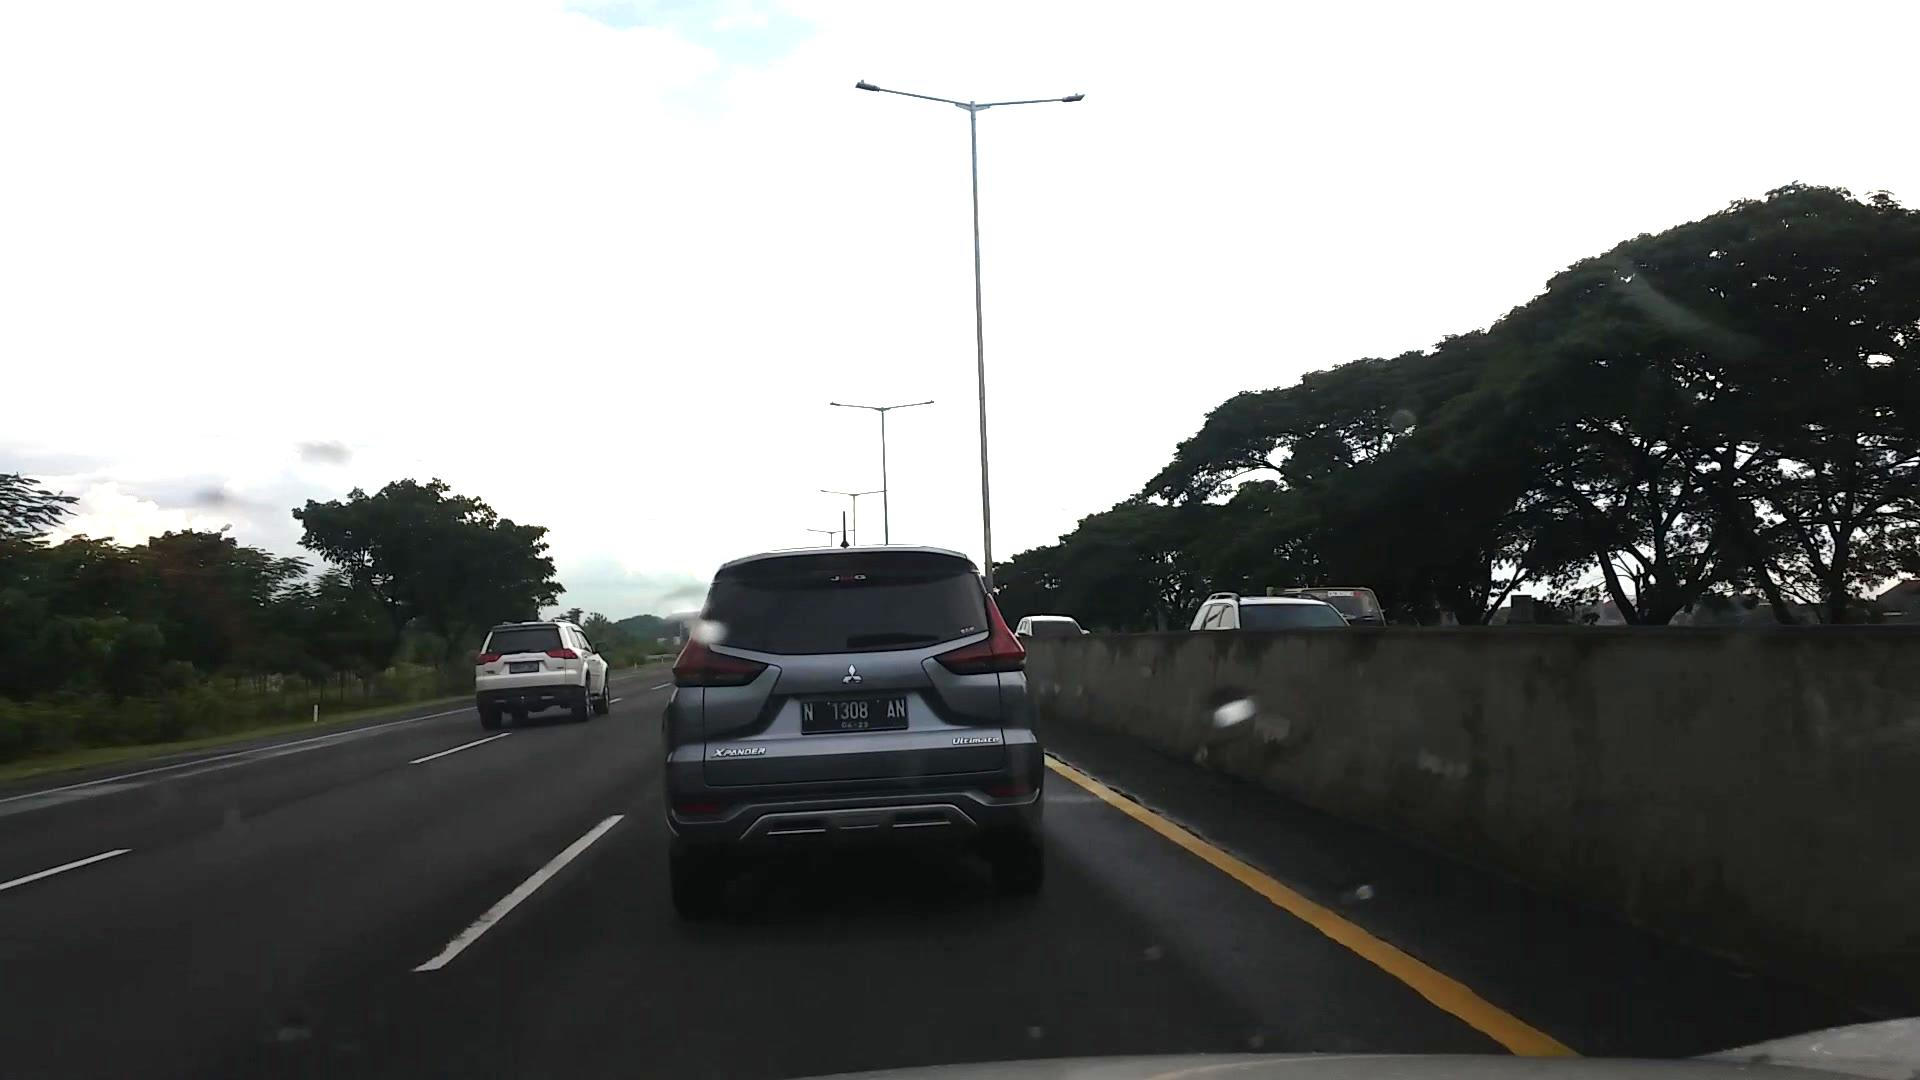plate_positive: (800, 696, 907, 732)
